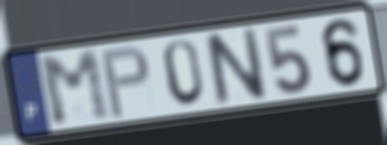0: (160, 37, 206, 110)
5: (262, 22, 314, 98)
6: (318, 16, 367, 90)
M: (35, 46, 115, 130)
N: (200, 24, 270, 110)
P: (98, 43, 152, 121)
